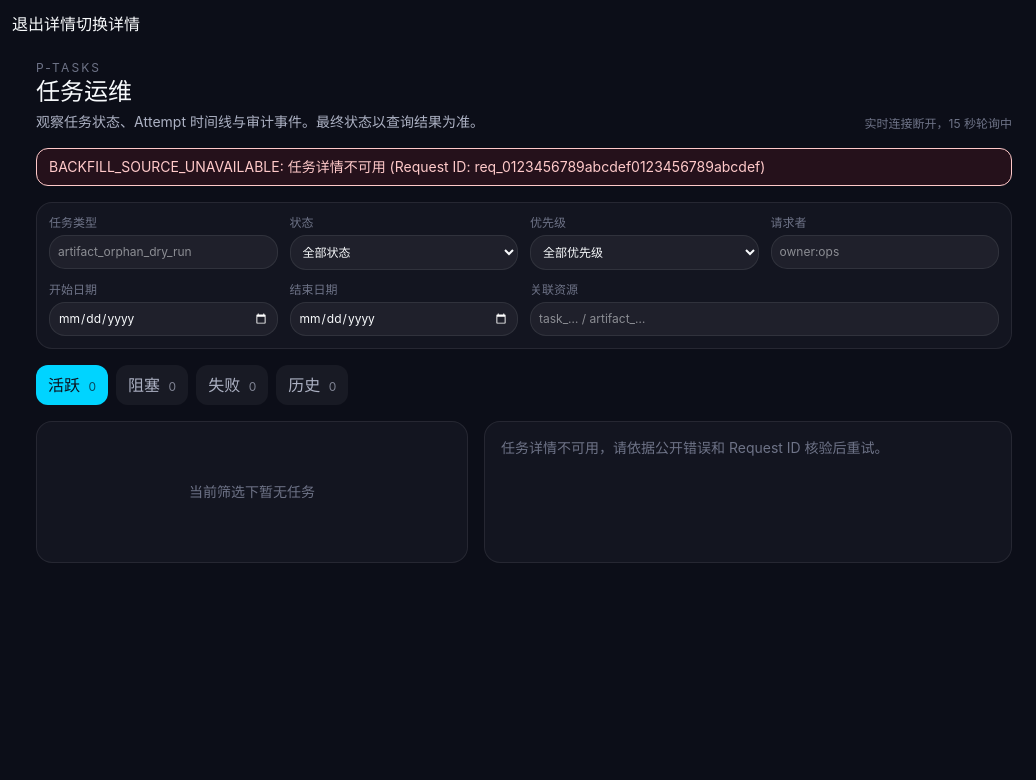
Test case: Operations task error ownership › clears the old detail error when navigating back to the task list
This screenshot has width=1036, height=780.
Expected: the 2nd message shows "req_0123456789abcdef0123456789abcdef", [49,158,765,175]
Click the link "退出详情" at (44, 24), box [12,14,76,34]
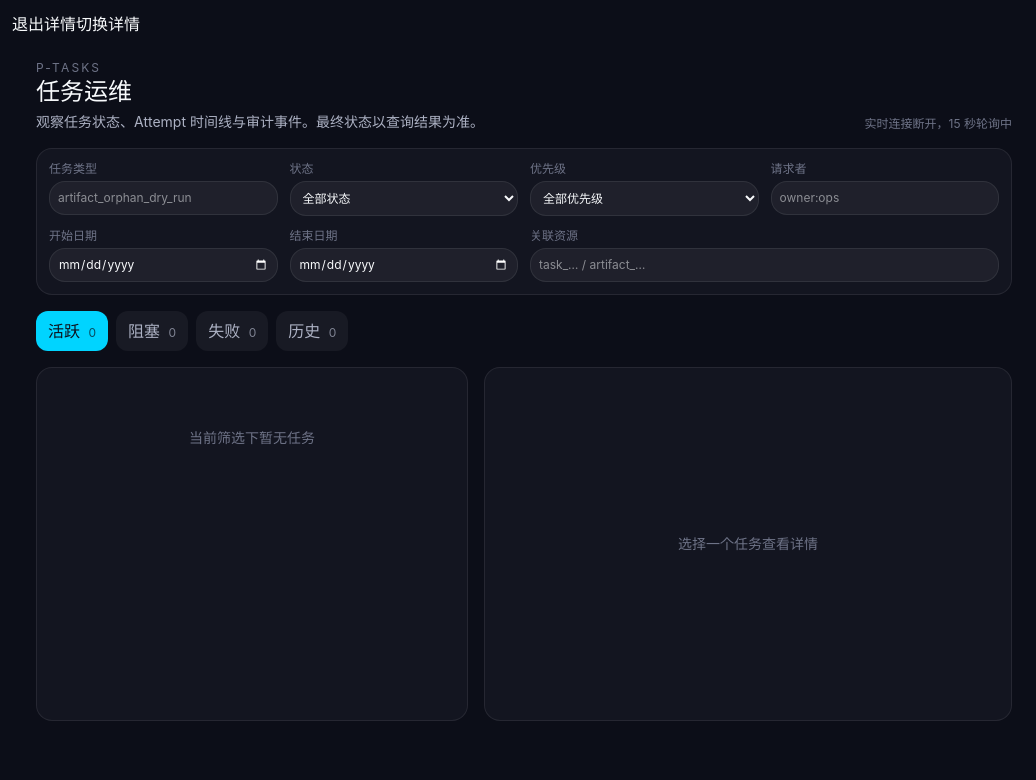
Result: the text "选择一个任务查看详情" is shown at [678,535,818,552]
